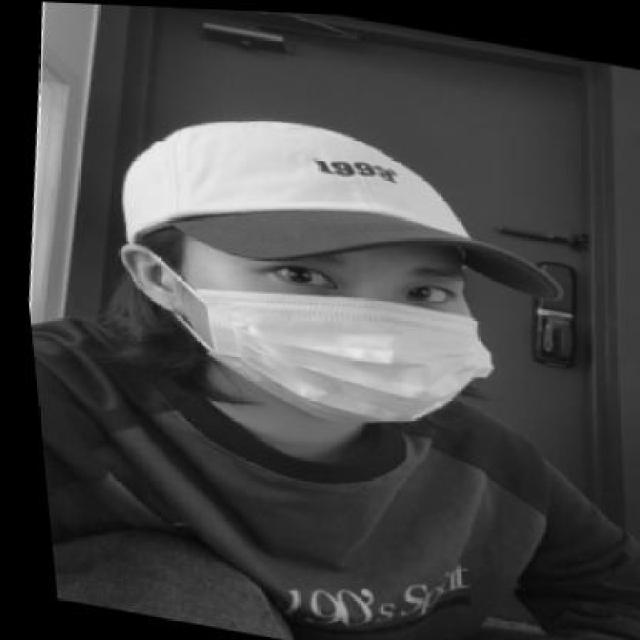hat: (98, 86, 577, 312)
